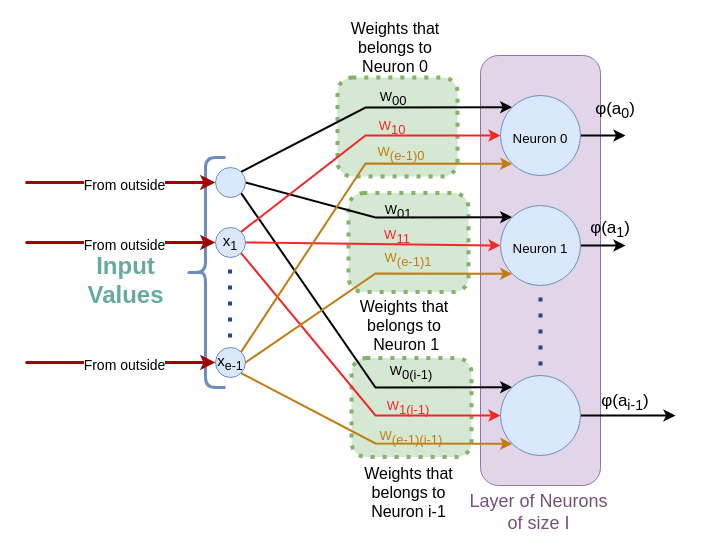
The diagram is 702 pixels wide and 551 high, and some of its shapes have lost their labels. Each missing label, with the centre of its shape:
Neuron i-1: point 540,415
x 0: point 230,182
